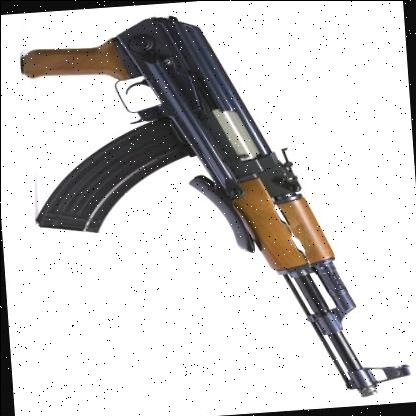rifle: (1, 0, 402, 394)
